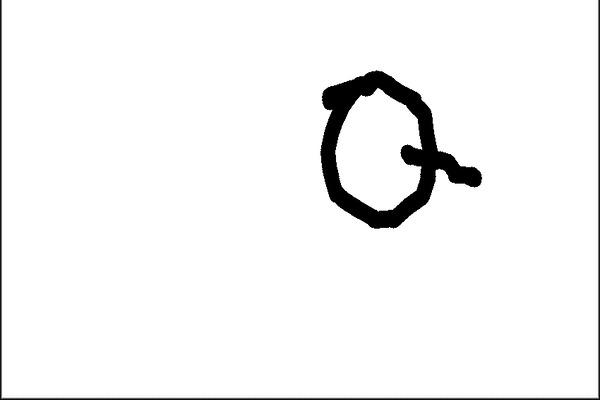Q: (308, 62, 482, 236)
